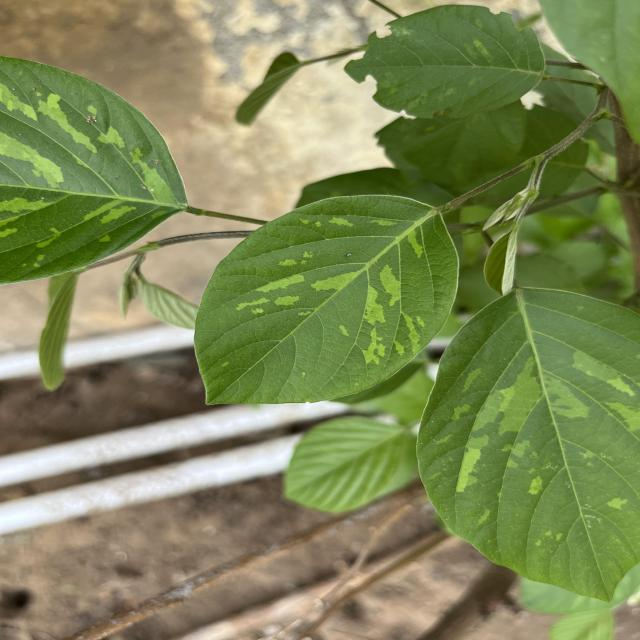Desmodium gangeticum: (414, 284, 640, 604), (191, 192, 462, 408)
